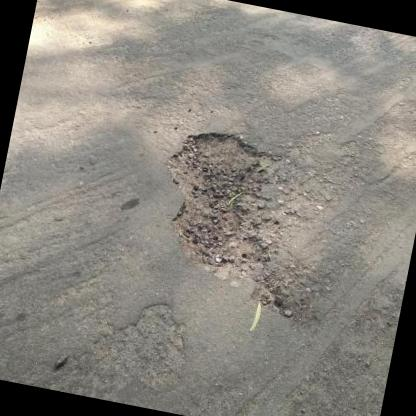pothole: (144, 120, 290, 286)
